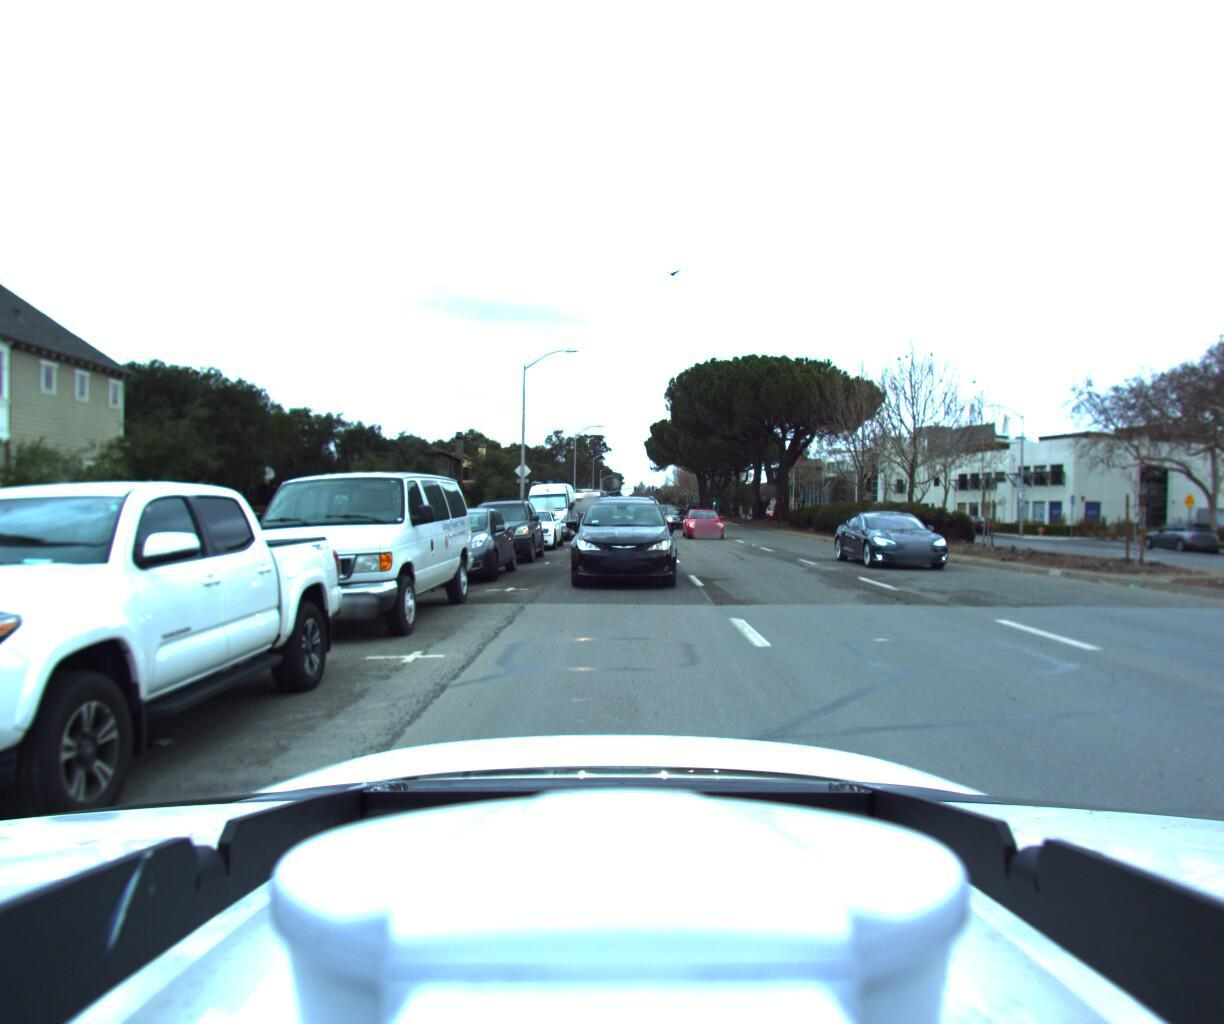car: (216, 465, 476, 643), (568, 493, 678, 592), (843, 508, 979, 573), (401, 508, 514, 585), (455, 497, 547, 568), (519, 481, 578, 540), (1136, 521, 1224, 555), (499, 509, 561, 552), (683, 506, 730, 540), (945, 514, 993, 536), (560, 501, 592, 529), (662, 501, 693, 525)
other_vehicle: (563, 487, 603, 527)
